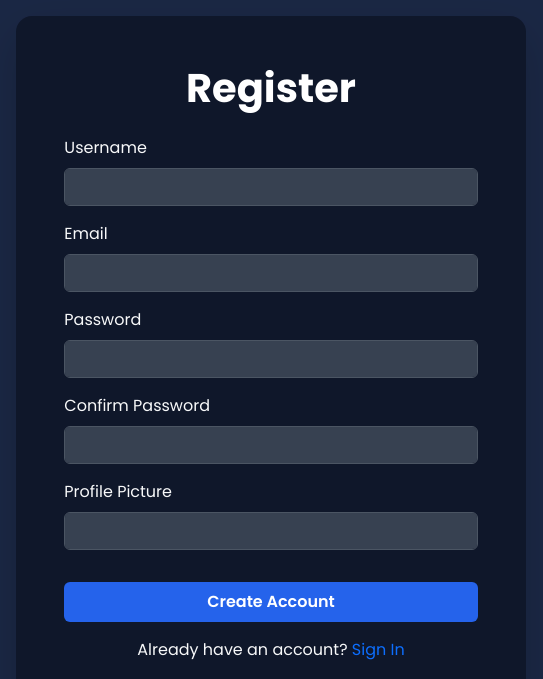
Test: Register Validation Test › shows error when passwords do not match
Type "Test User" into the field labelled "Username".
click(271, 187); type("Test User")  # box [64,168,478,206]
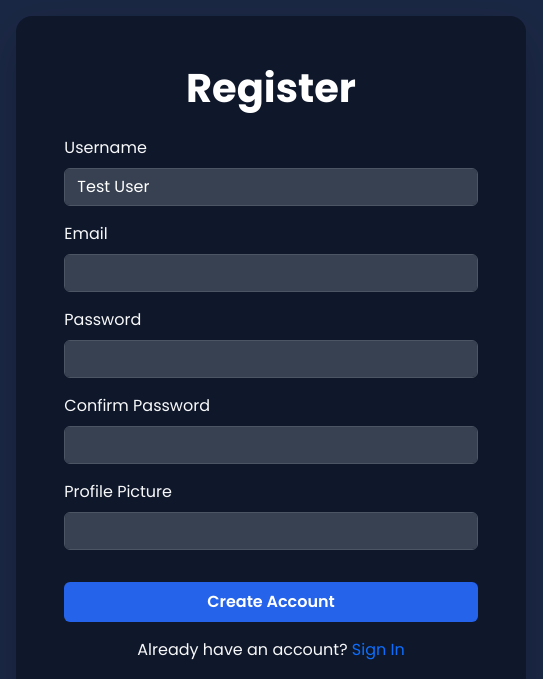
Type "test@email.com" into the field labelled "Email".
click(271, 273); type("test@email.com")  # box [64,254,478,292]
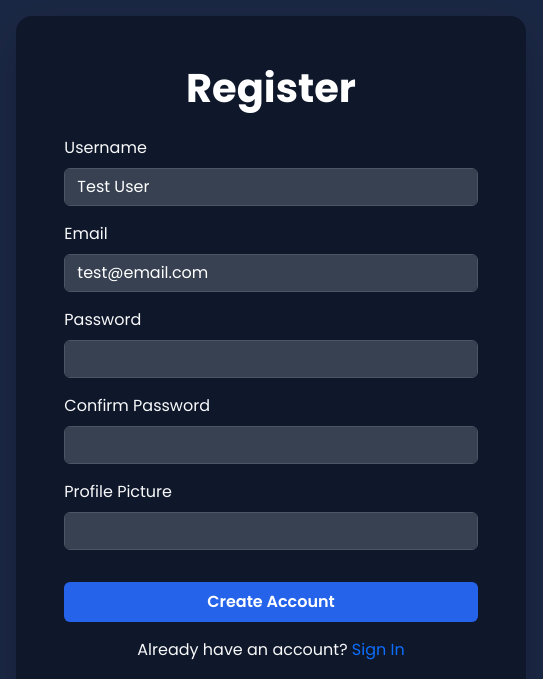
Type "123456" into the password field labelled "Password".
click(271, 359); type("123456")  # box [64,340,478,378]
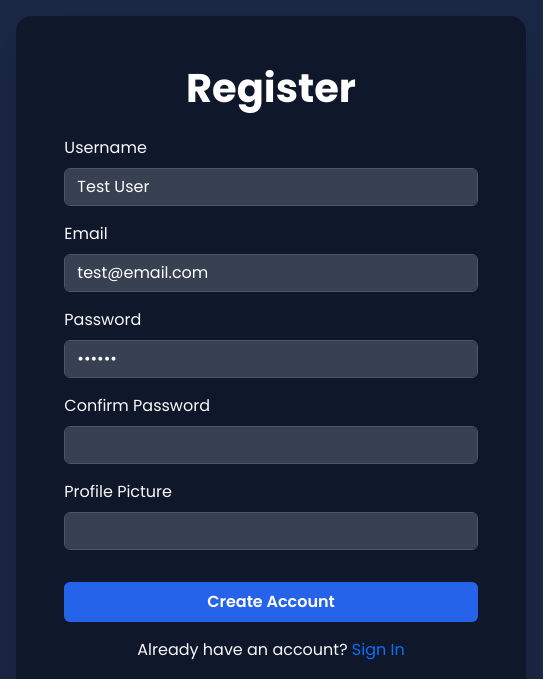
Type "654321" into the password field labelled "Confirm Password".
click(271, 445); type("654321")  # box [64,426,478,464]
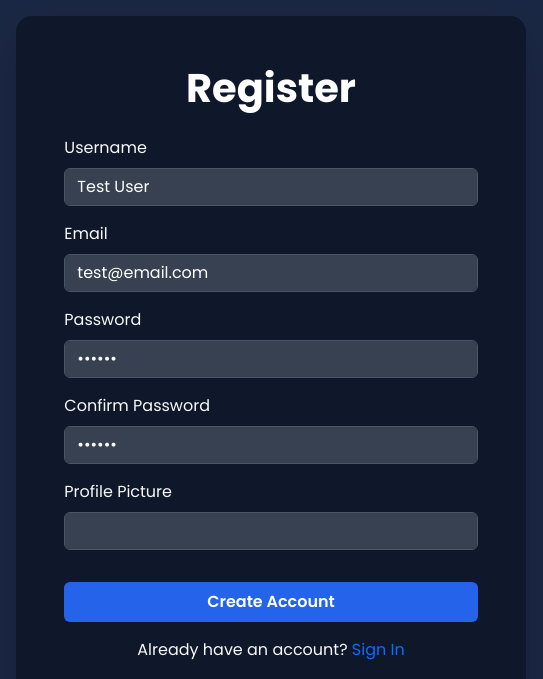
Click the button "Create Account".
click(271, 602)  # box [64,582,478,622]
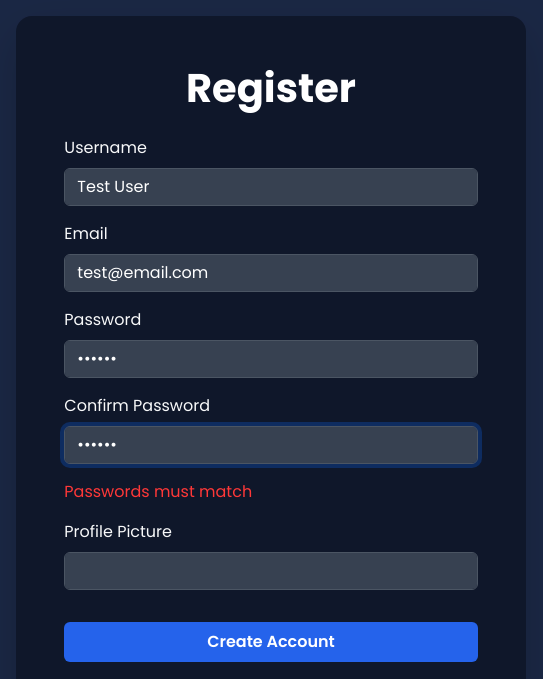
Check: the text "Passwords must match" is shown, box [64,480,252,503]
